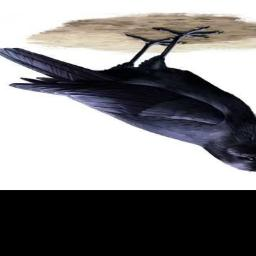Crow: (0, 24, 256, 172)
